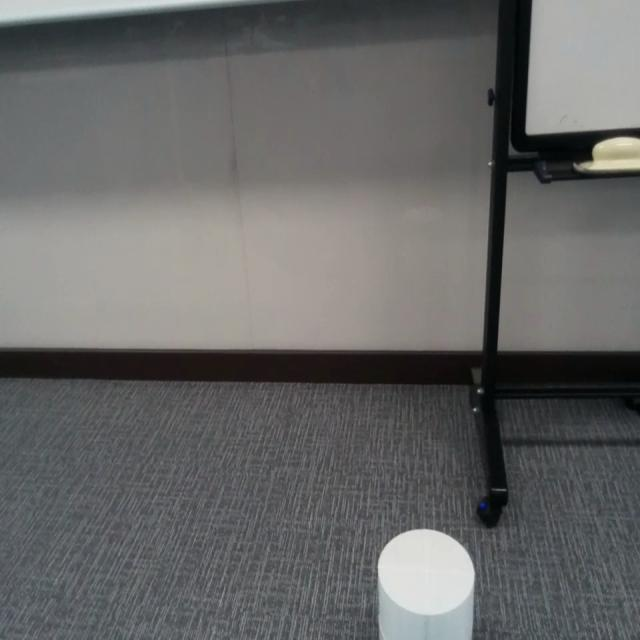cylinder: (377, 527, 477, 639)
